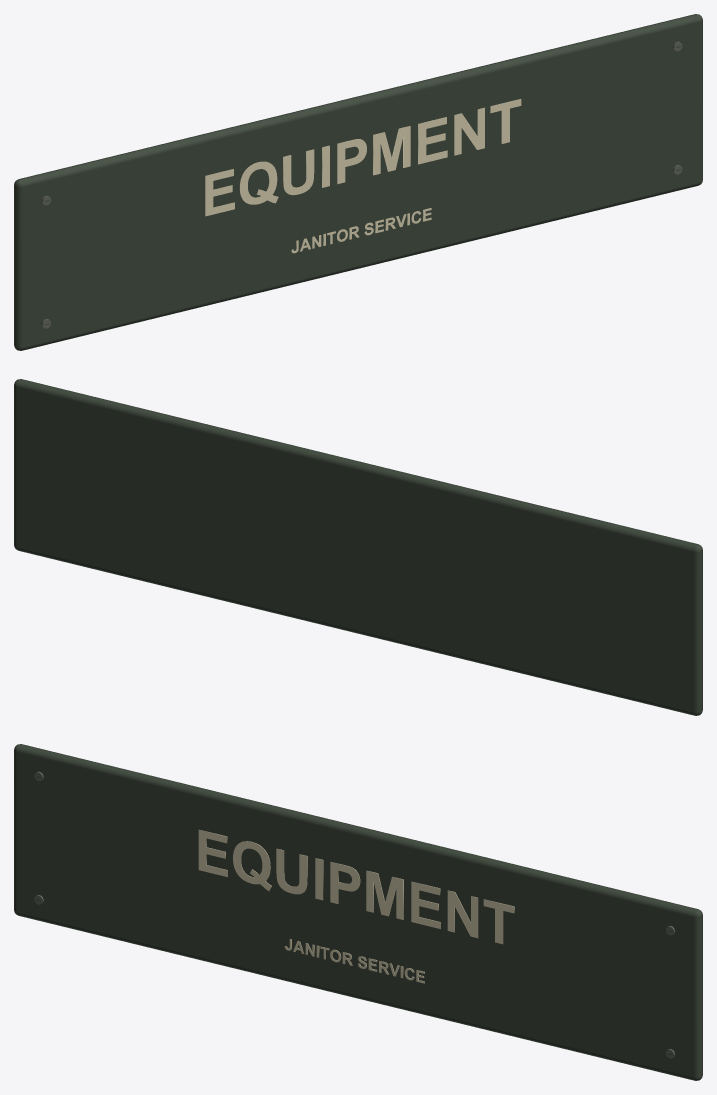
File: SM_Shop_Equipment_Sign.fbx
3 renders of one model, top to bottom at view 1: azimuth 30°, elevation 25°; view 2: azimuth 150°, elevation 25°; view 3: azimuth 330°, elevation 25°, orthographic.
Visible parts, largest first — view 1: SM_Shop_Equipment_Sign; view 2: SM_Shop_Equipment_Sign; view 3: SM_Shop_Equipment_Sign.
Part boxes in pixels (x1,y1,x2,y2): SM_Shop_Equipment_Sign: (14,14,702,350); SM_Shop_Equipment_Sign: (14,379,702,715); SM_Shop_Equipment_Sign: (14,744,702,1080).
Bounding box in the file's own units: 160 × 3.03 × 38.
